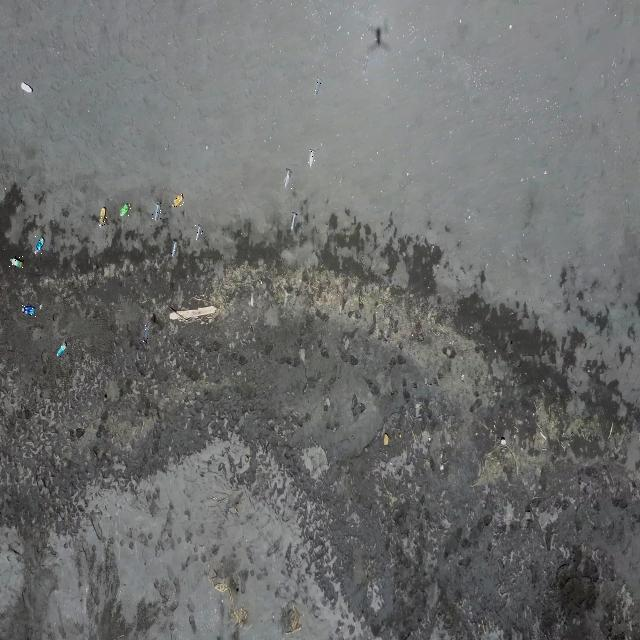plastic-bottle: (34, 235, 45, 255), (56, 340, 68, 358), (172, 190, 184, 208), (9, 255, 24, 269), (118, 203, 131, 218), (21, 79, 34, 94), (22, 304, 36, 317), (98, 208, 107, 228)
takeaway-cup: (283, 167, 292, 189), (152, 201, 161, 222), (290, 212, 298, 232), (308, 149, 316, 169), (171, 238, 178, 260), (195, 223, 202, 241), (314, 78, 321, 96), (142, 325, 148, 344)
